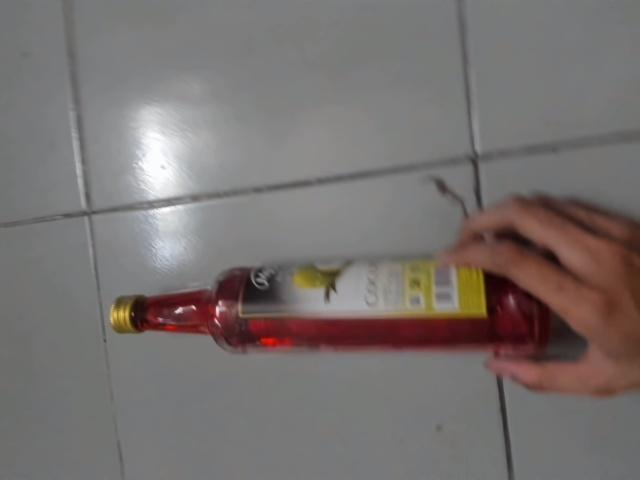botol_kaca: (105, 251, 553, 365)
